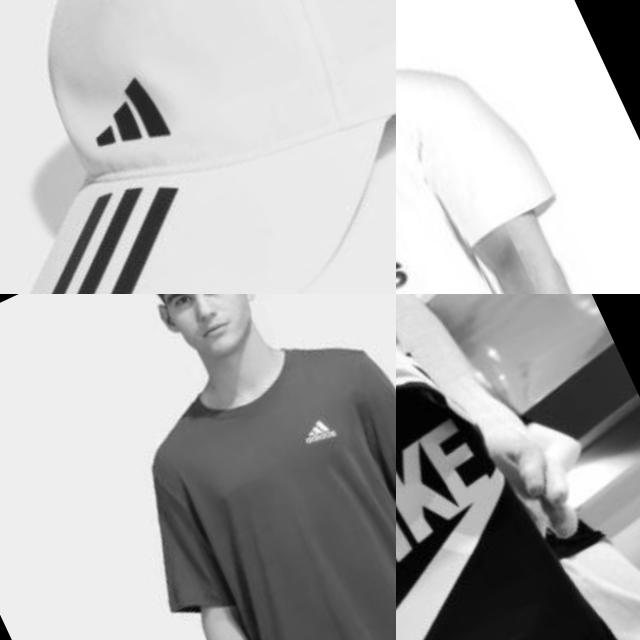ADIDAS_original: (0, 148, 244, 294), (46, 29, 197, 192), (295, 410, 343, 454)
NIKE_fake: (396, 390, 583, 640)
